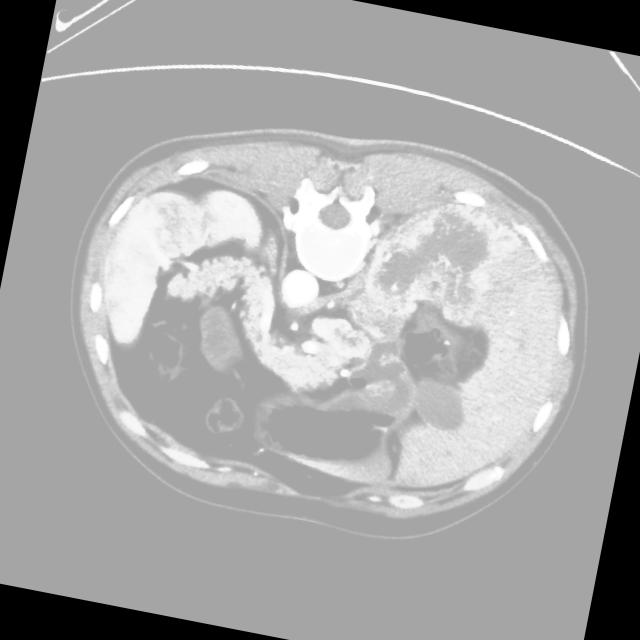TUMOR: (48, 153, 542, 510)
